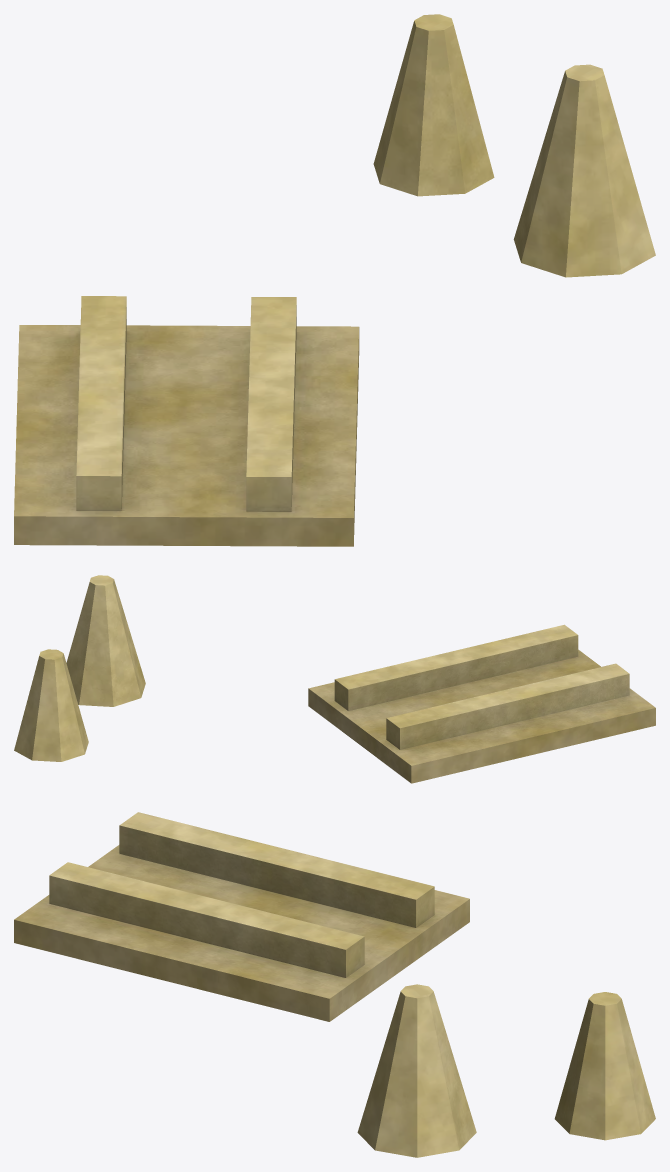
The model's file is res_food_1.glb.
The picture shows the model from 3 angles, top to bottom: view 1: azimuth 30°, elevation 25°; view 2: azimuth 150°, elevation 25°; view 3: azimuth 270°, elevation 25°; orthographic projection. The views are drawn at different scales.
Parts seen in each view (by area): view 1: dilek; view 2: dilek; view 3: dilek.
Boxes of the visible parts, box(x1,y1,x2,y2) form: dilek: box(14, 14, 655, 546); dilek: box(14, 575, 655, 783); dilek: box(14, 812, 655, 1157).
Size of the model in its own units: 0.8122 by 0.17 by 0.6998.
1 material, 1 textured.
